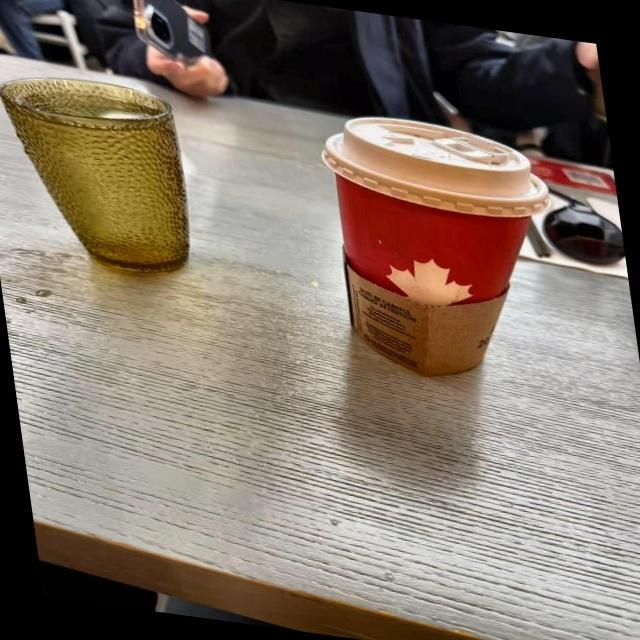timmies: (319, 102, 546, 388)
